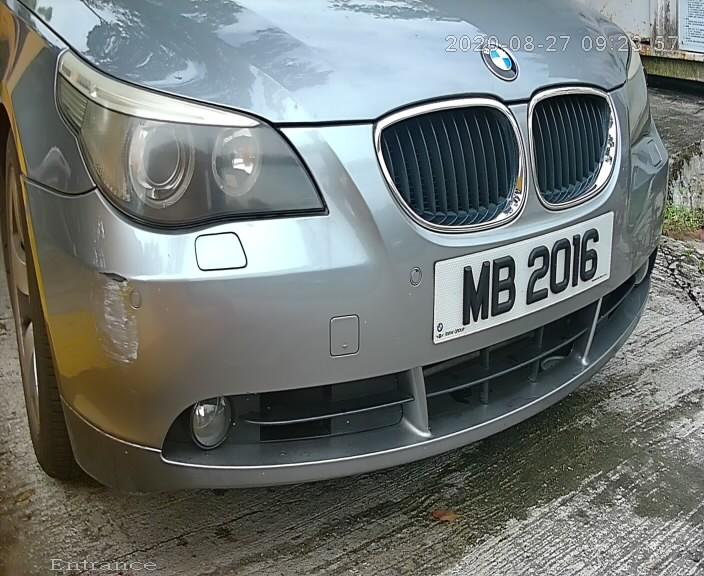Car: (7, 16, 692, 507)
License Plate: (418, 184, 630, 368)
